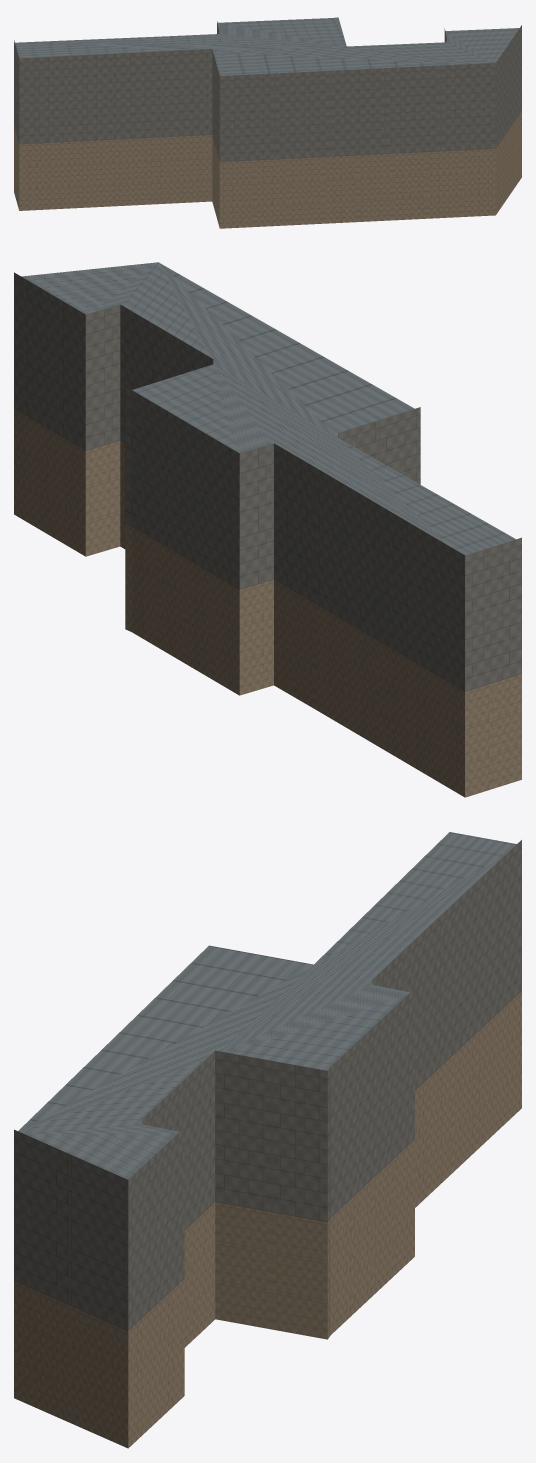
Rendered from bld_c-1_-5_561.gltf.
3 renders of one model, top to bottom at view 1: azimuth 30°, elevation 25°; view 2: azimuth 150°, elevation 25°; view 3: azimuth 270°, elevation 25°, orthographic. The views are drawn at different scales.
Visible parts, largest first — view 1: bld_c-1_-5_561; view 2: bld_c-1_-5_561; view 3: bld_c-1_-5_561.
Part boxes in pixels (left/top/right/bottom): bld_c-1_-5_561: left=14, top=17, right=521, bottom=228; bld_c-1_-5_561: left=14, top=262, right=521, bottom=797; bld_c-1_-5_561: left=14, top=832, right=521, bottom=1448.
Size of the model in its own units: 32.95 by 11.68 by 20.01.
Materials: 4 (4 with a texture image).
